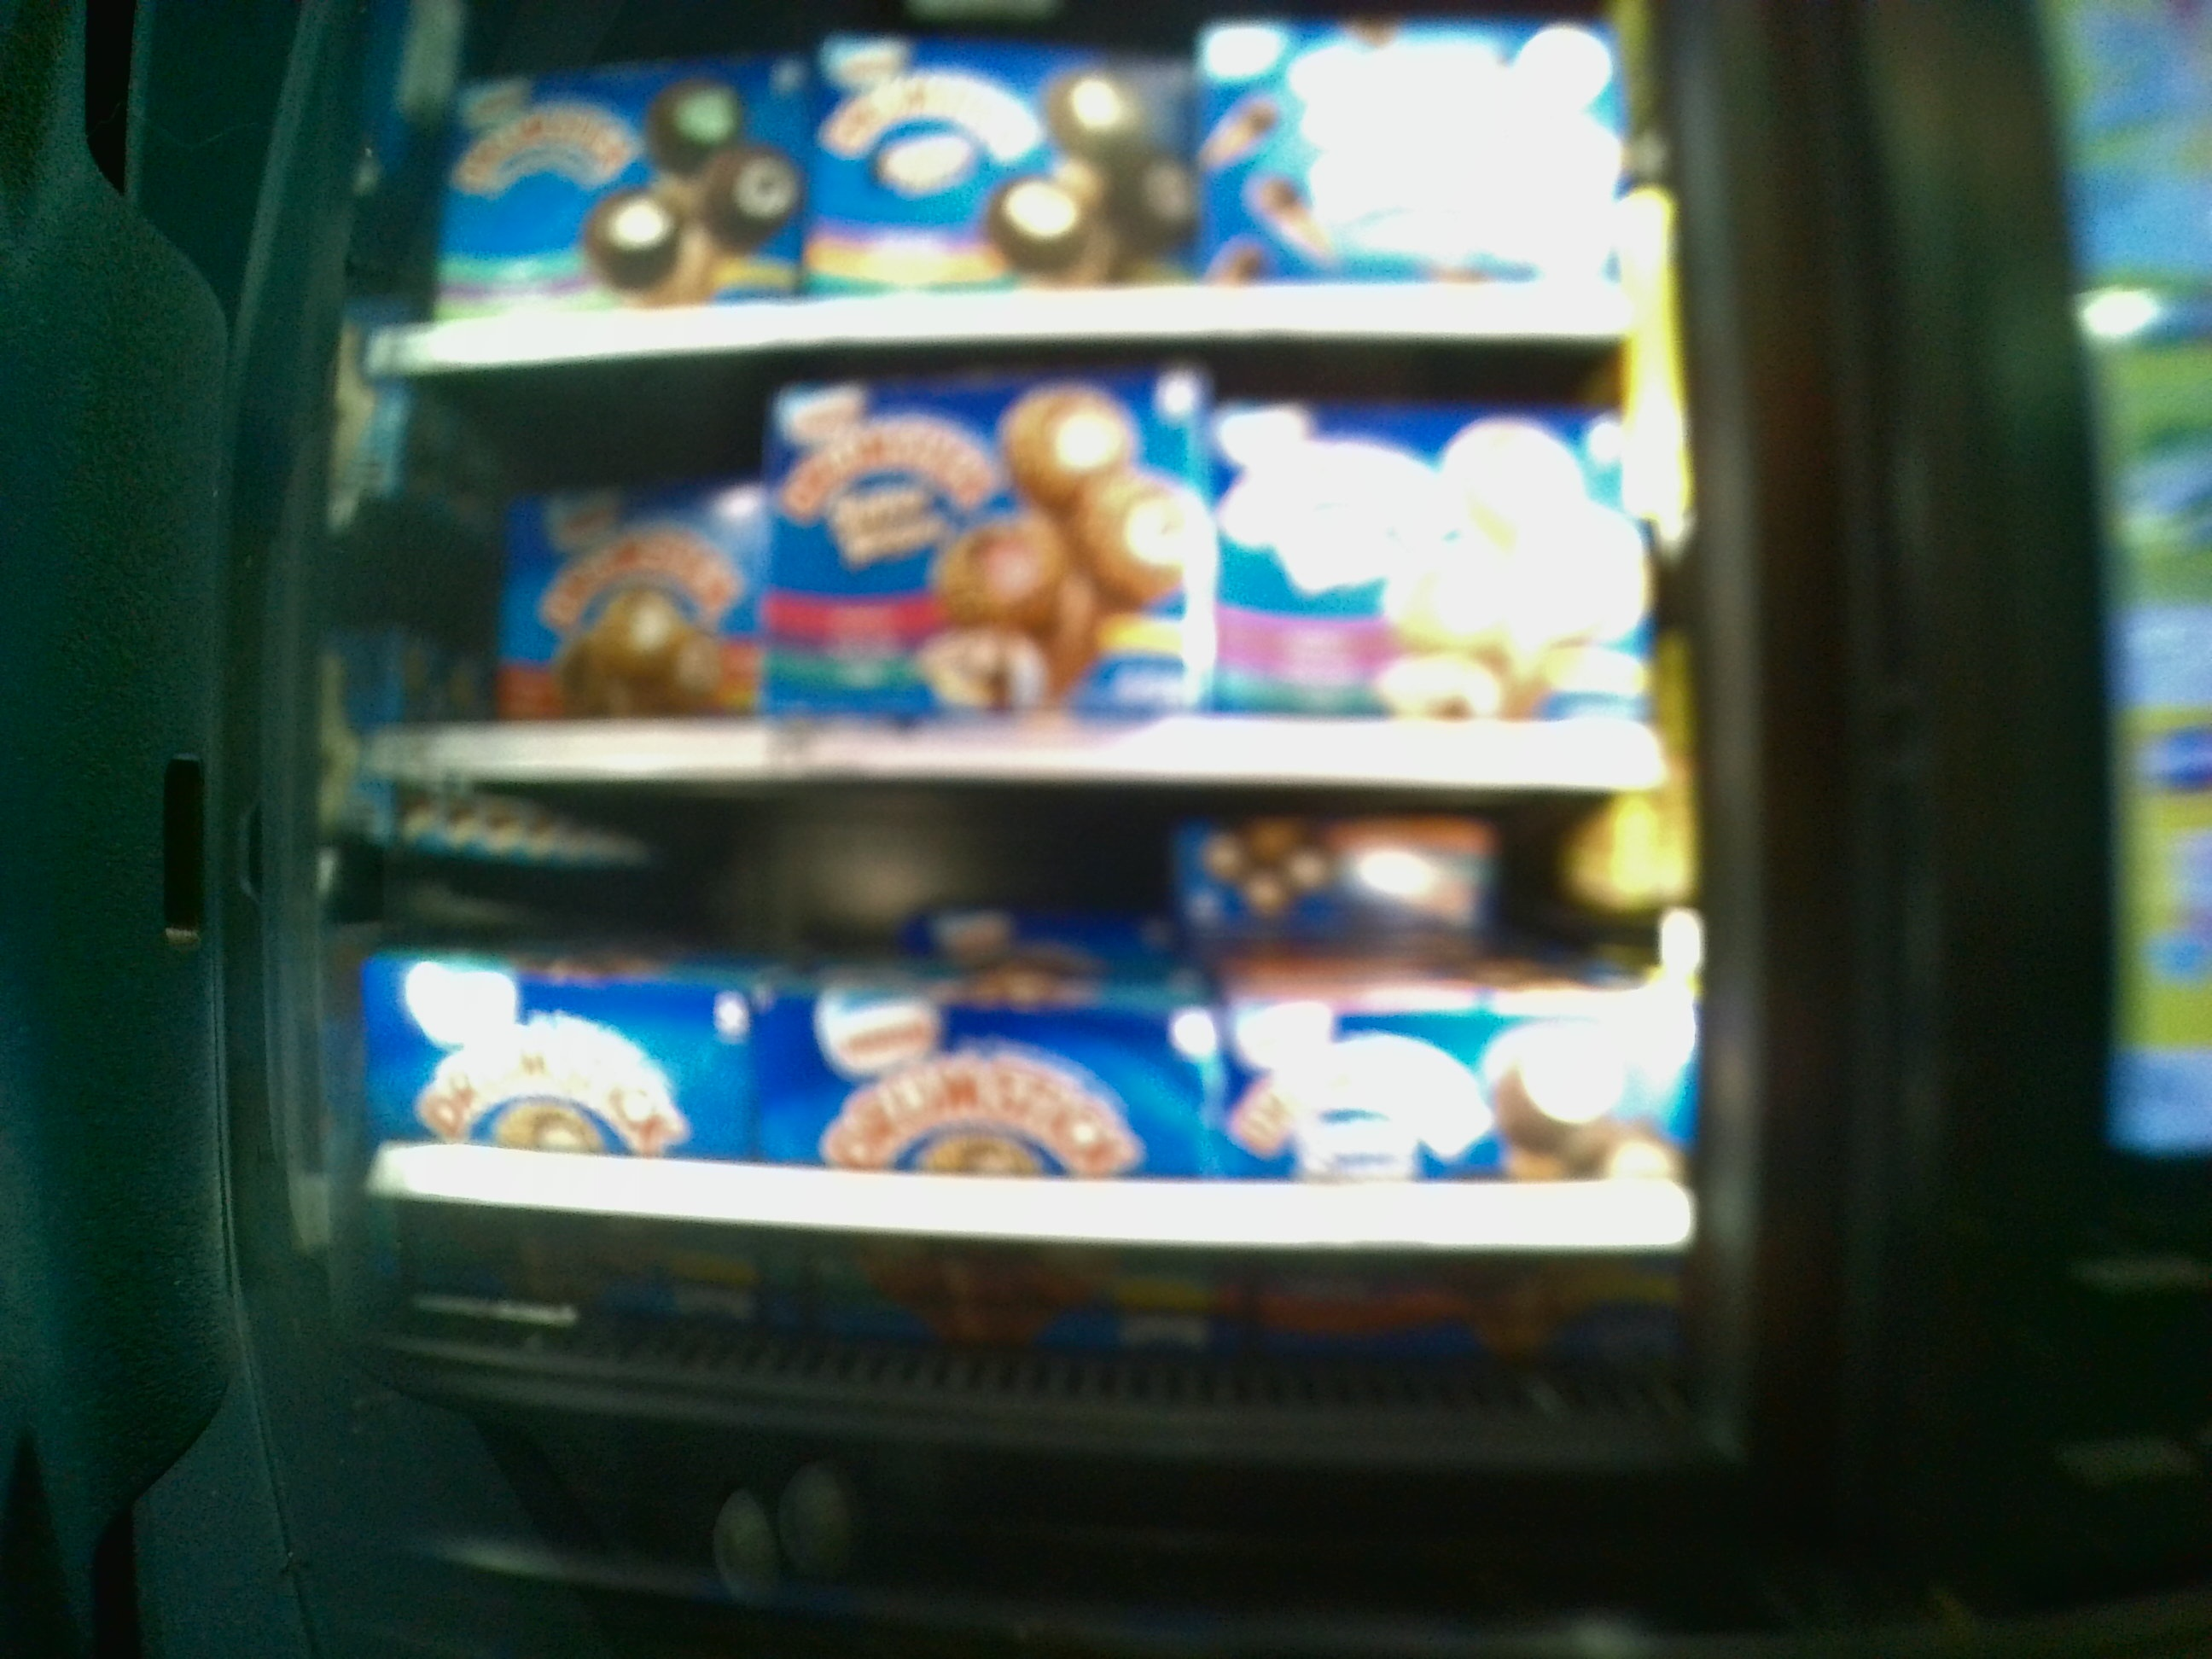shelf: (369, 781, 1693, 1384), (368, 361, 1679, 770), (376, 5, 1653, 357)
